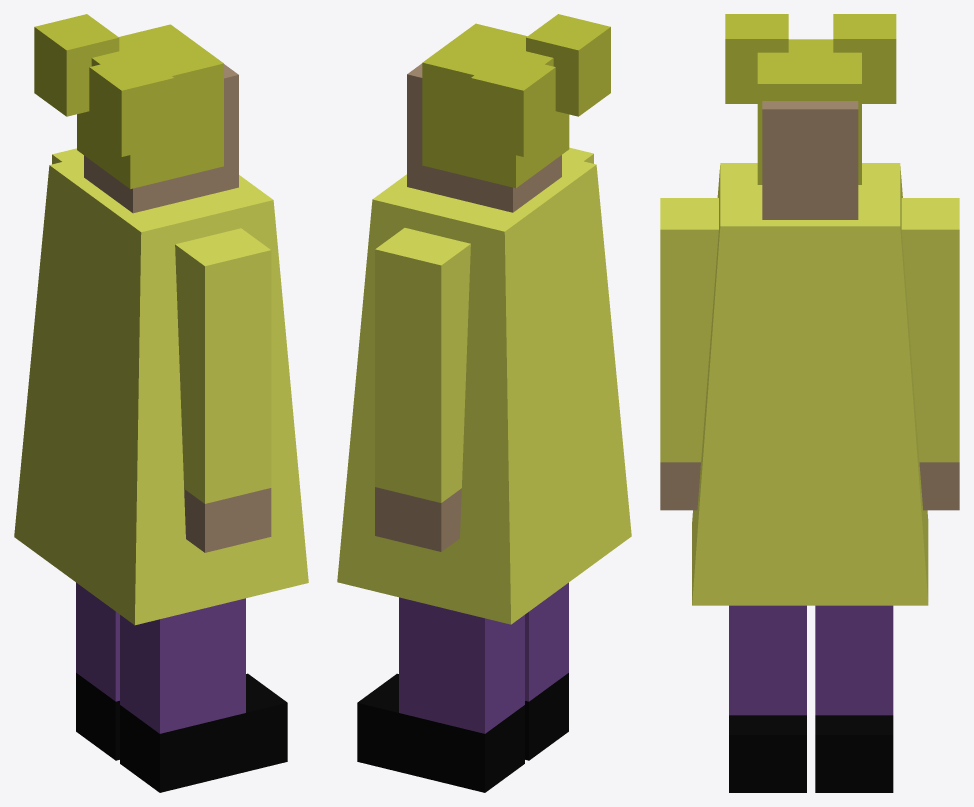
Rendered from ChildFemale.fbx.
3 renders of one model, left to right at view 1: azimuth 30°, elevation 25°; view 2: azimuth 150°, elevation 25°; view 3: azimuth 270°, elevation 25°, orthographic. The views are drawn at different scales.
Visible parts, largest first — view 1: polySurface19; view 2: polySurface19; view 3: polySurface19.
Part boxes in pixels (x1,y1,x2,y2): polySurface19: (14,14,308,792); polySurface19: (337,14,631,792); polySurface19: (660,14,959,792).
Size of the model in its own units: 0.0826 by 0.3235 by 0.1256.
